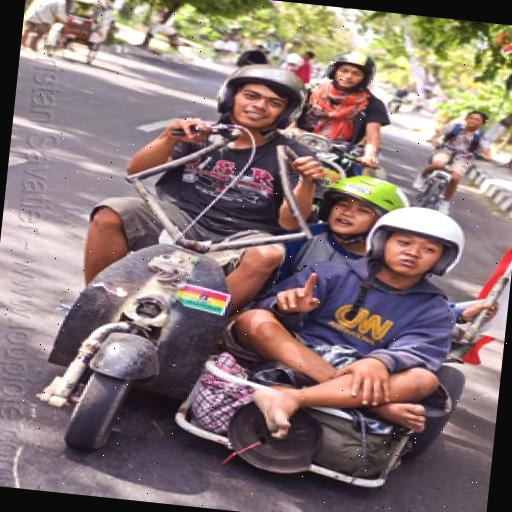helmet: (202, 50, 312, 188)
triple riding: (56, 34, 466, 471)
